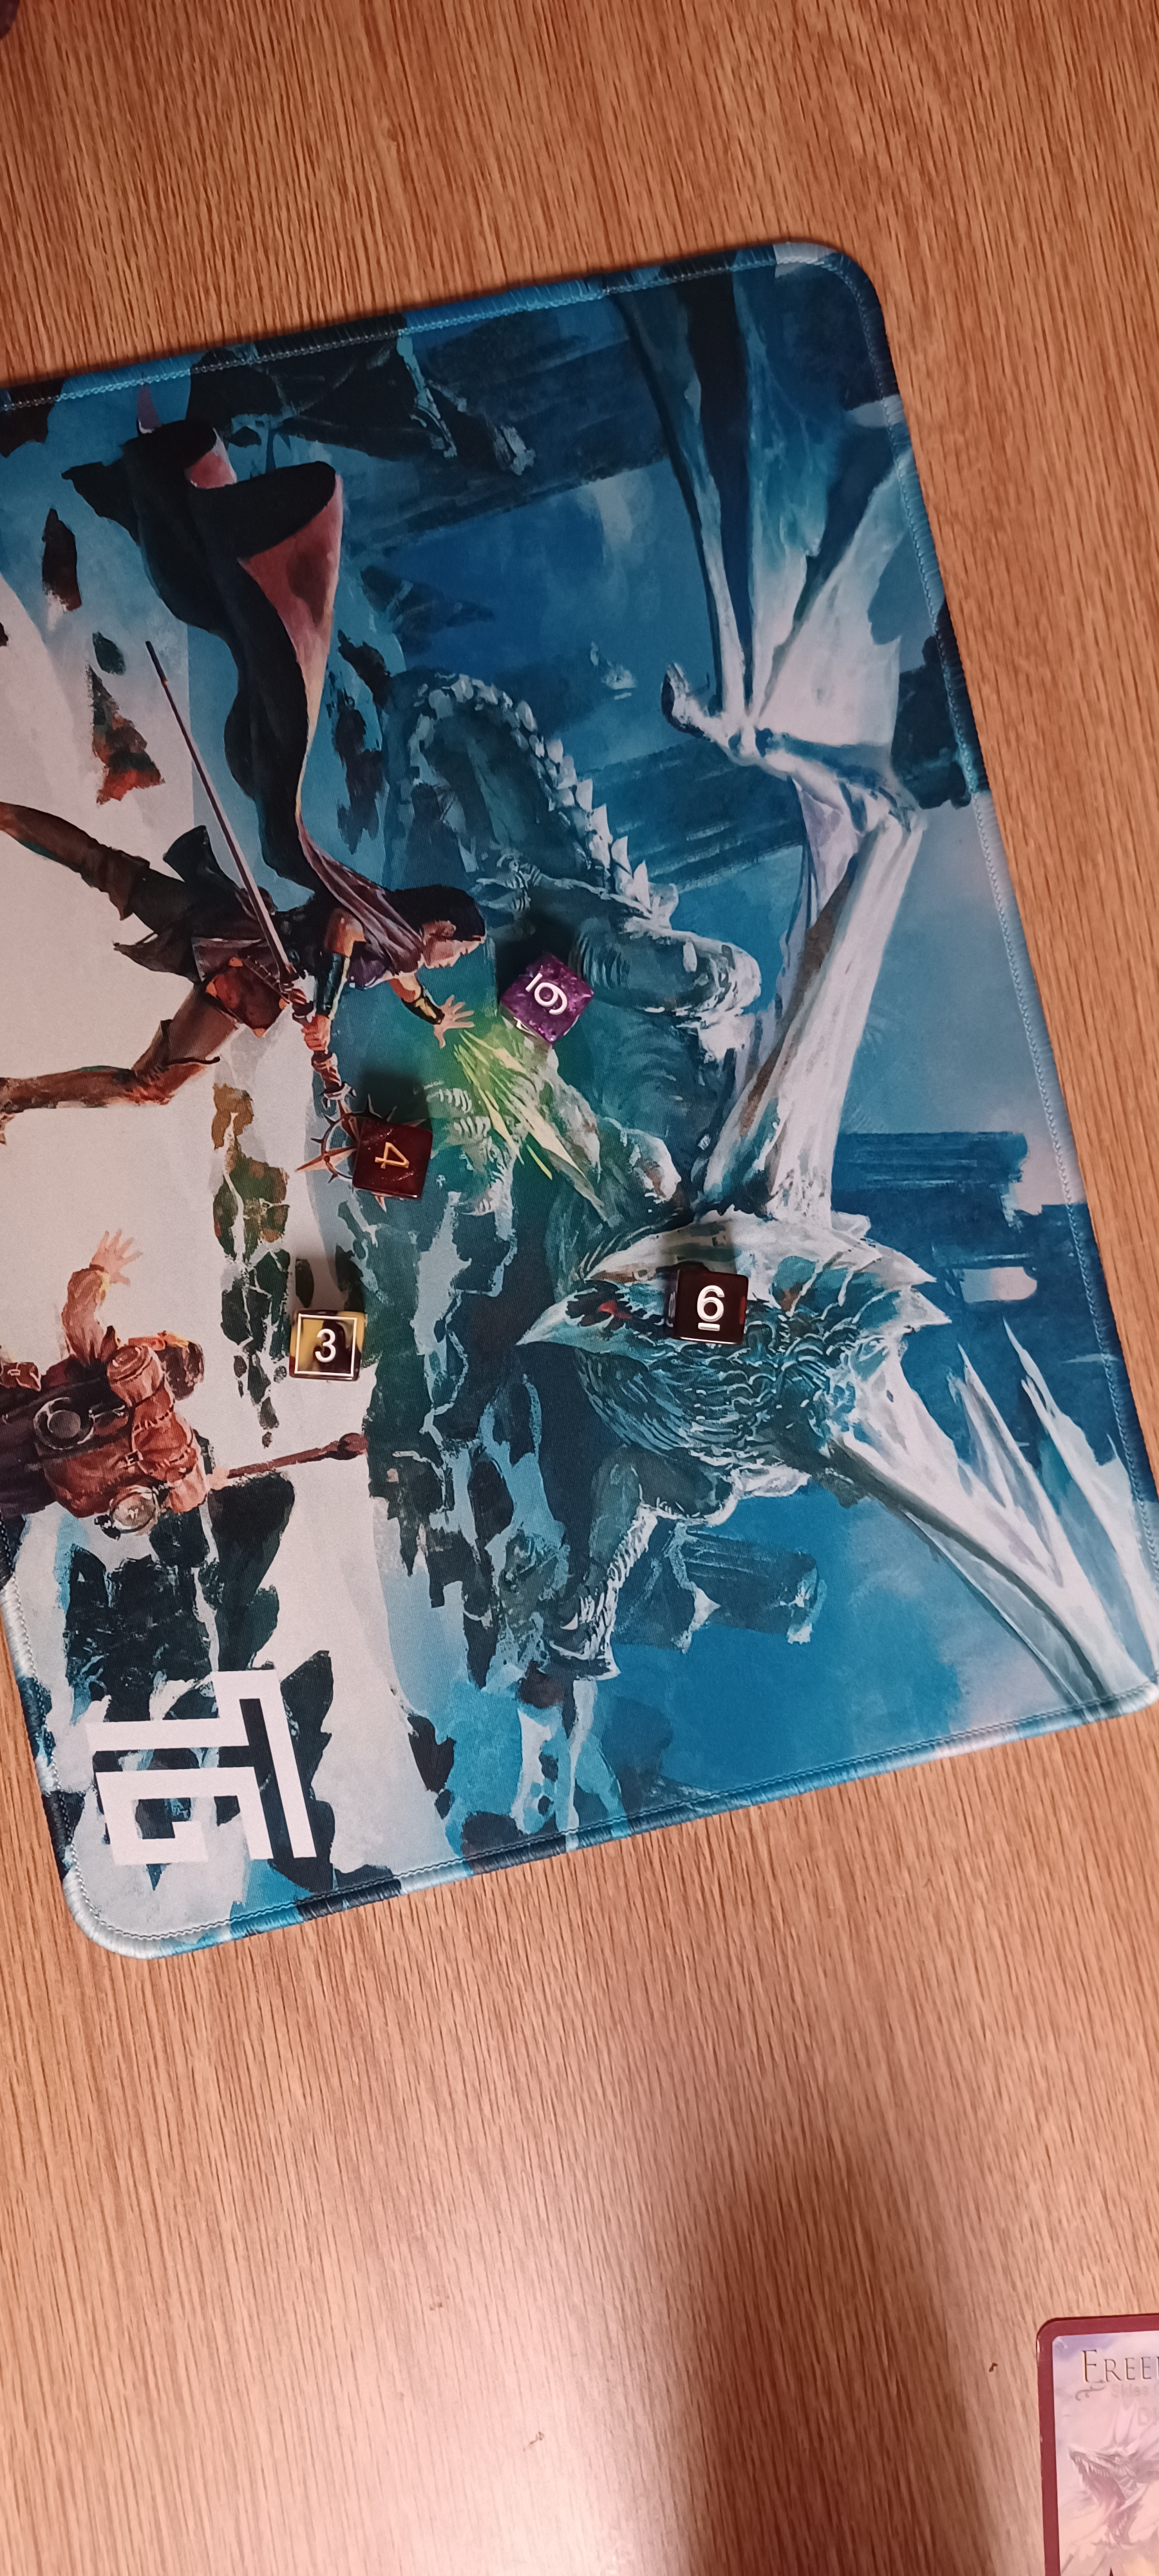four: (312, 1081, 471, 1229)
six: (465, 928, 619, 1058), (642, 1247, 765, 1365)
three: (261, 1288, 414, 1405)
